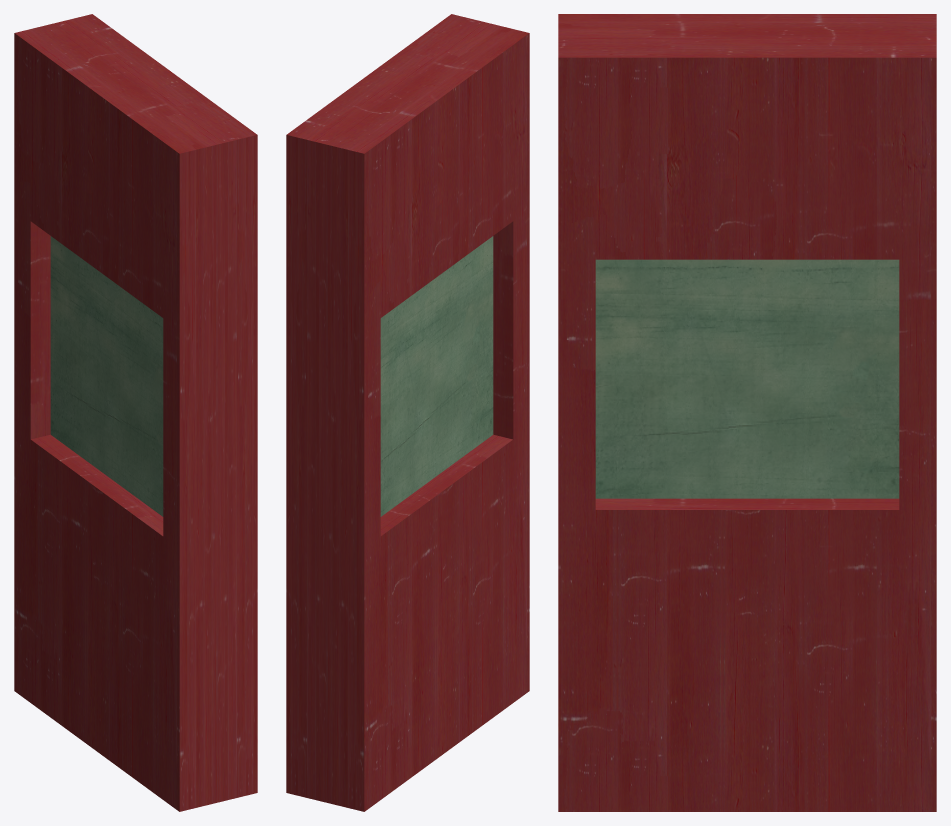
The model's file is SM_M_Handrail_7.fbx.
The picture shows the model from 3 angles, left to right: view 1: azimuth 30°, elevation 25°; view 2: azimuth 150°, elevation 25°; view 3: azimuth 270°, elevation 25°; orthographic projection. The views are drawn at different scales.
Parts seen in each view (by area): view 1: SM_M_Handrail_7_LOD0; view 2: SM_M_Handrail_7_LOD0; view 3: SM_M_Handrail_7_LOD0.
Boxes of the visible parts, x1,y1,x2,y2 form: SM_M_Handrail_7_LOD0: (14,14,257,811); SM_M_Handrail_7_LOD0: (286,14,529,811); SM_M_Handrail_7_LOD0: (558,14,936,811).
Bounding box in the file's own units: 10.15 × 37.22 × 81.86.
Materials: 2 (2 with a texture image).
